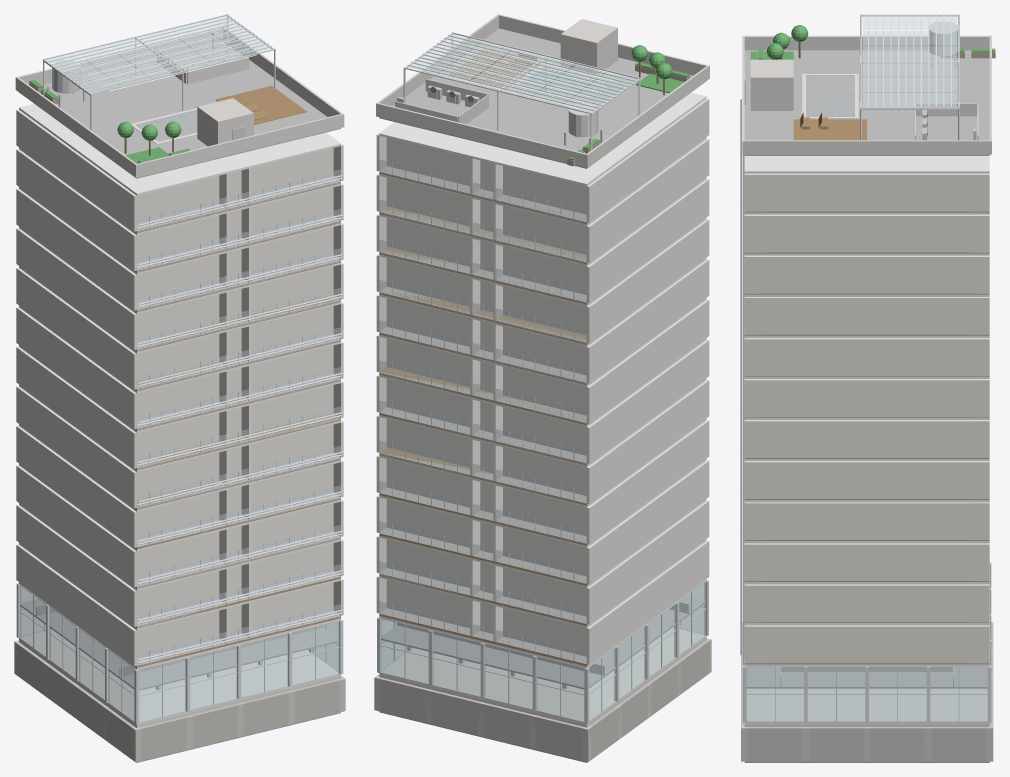
The picture shows the model from 3 angles, left to right: view 1: azimuth 30°, elevation 25°; view 2: azimuth 150°, elevation 25°; view 3: azimuth 270°, elevation 25°; orthographic projection. The views are drawn at different scales.
Parts seen in each view (by area): view 1: slab_R, slab_G, wall_B1_South, ceiling_F12, wall_F02_South, wall_F11_South, wall_F01_South, wall_F03_South, wall_F09_South, wall_F10_South, wall_F04_South, wall_F05_South (+92 smaller); view 2: slab_R, slab_G, wall_B1_North, ceiling_F12, wall_F07_North, wall_F04_North, wall_F11_North, wall_F03_North, wall_F05_North, wall_F06_North, wall_F08_North, wall_F01_North (+94 smaller); view 3: slab_R, wall_F01_East, wall_F02_East, wall_F10_East, wall_F11_East, wall_F12_East, wall_F03_East, wall_F04_East, wall_F05_East, wall_F06_East, wall_F07_East, wall_F08_East (+58 smaller).
Boxes of the visible parts, box(x1,y1,x2,y2) form: slab_R: box(19, 41, 340, 178); slab_G: box(19, 629, 340, 725); wall_B1_South: box(139, 679, 342, 760); ceiling_F12: box(19, 104, 340, 195); wall_F02_South: box(137, 543, 333, 618); wall_F11_South: box(137, 187, 333, 263); wall_F01_South: box(137, 582, 333, 658); wall_F03_South: box(137, 503, 333, 579); wall_F09_South: box(137, 266, 333, 342); wall_F10_South: box(137, 227, 333, 302); wall_F04_South: box(137, 464, 333, 539); wall_F05_South: box(137, 424, 333, 500); slab_R: box(379, 28, 702, 168); slab_G: box(379, 627, 706, 724); wall_B1_North: box(377, 677, 584, 760); ceiling_F12: box(379, 92, 706, 186); wall_F07_North: box(386, 338, 586, 415); wall_F04_North: box(386, 459, 586, 535); wall_F11_North: box(386, 178, 586, 254); wall_F03_North: box(386, 499, 586, 575); wall_F05_North: box(386, 419, 586, 495); wall_F06_North: box(386, 378, 586, 455); wall_F08_North: box(386, 298, 586, 375); wall_F01_North: box(386, 579, 586, 656); slab_R: box(744, 50, 989, 155); wall_F01_East: box(744, 625, 989, 663); wall_F02_East: box(744, 584, 989, 622); wall_F10_East: box(744, 255, 989, 293); wall_F11_East: box(744, 214, 989, 252); wall_F12_East: box(744, 173, 989, 211); wall_F03_East: box(744, 543, 989, 580); wall_F04_East: box(744, 502, 989, 539); wall_F05_East: box(744, 461, 989, 498); wall_F06_East: box(744, 420, 989, 457); wall_F07_East: box(744, 379, 989, 416); wall_F08_East: box(744, 338, 989, 375).
Bounding box in the file's own units: 20.6 × 58.6 × 20.86.
